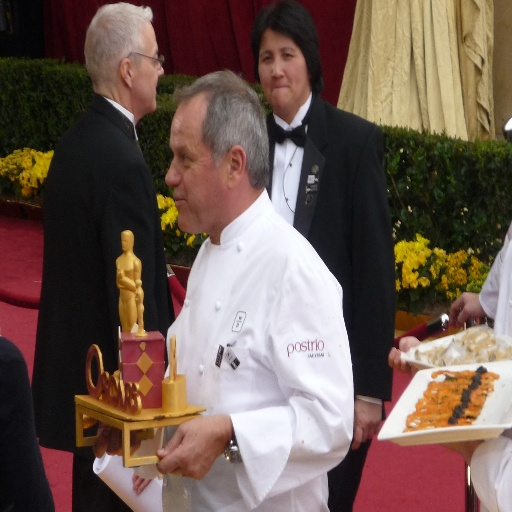hand: (167, 395, 241, 482), (80, 413, 146, 459), (351, 398, 384, 452), (448, 288, 487, 328), (387, 337, 421, 377), (438, 440, 480, 454), (131, 470, 155, 494)
